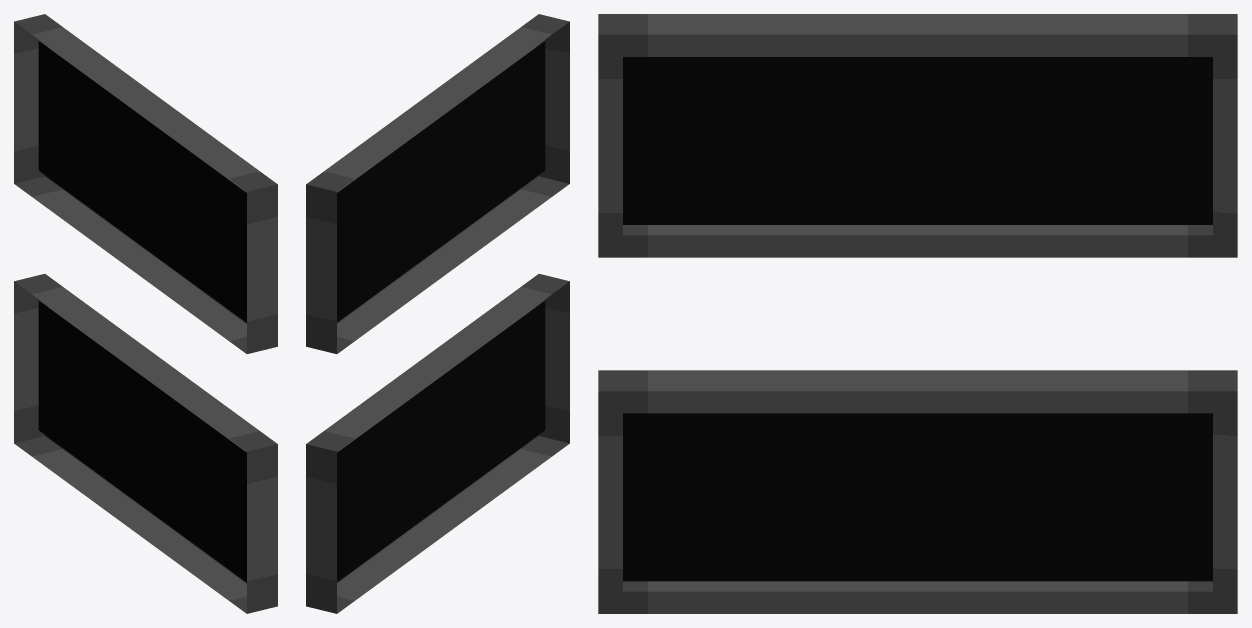
The model's file is face_layout.obj.
The picture shows the model from 3 angles, left to right: view 1: azimuth 30°, elevation 25°; view 2: azimuth 150°, elevation 25°; view 3: azimuth 270°, elevation 25°; orthographic projection. The views are drawn at different scales.
Parts seen in each view (by area): view 1: Plane_u0, Plane_u1; view 2: Plane_u0, Plane_u1; view 3: Plane_u0, Plane_u1.
Part boxes in pixels (x1=…): Plane_u0: x1=14, y1=14, x2=277, y2=353; Plane_u1: x1=14, y1=274, x2=277, y2=613; Plane_u0: x1=306, y1=14, x2=569, y2=353; Plane_u1: x1=306, y1=274, x2=569, y2=613; Plane_u0: x1=598, y1=14, x2=1237, y2=257; Plane_u1: x1=598, y1=370, x2=1237, y2=613.
Size of the model in its own units: 0.0625 by 0.8125 by 0.8125.
Materials: 1 (1 with a texture image).
